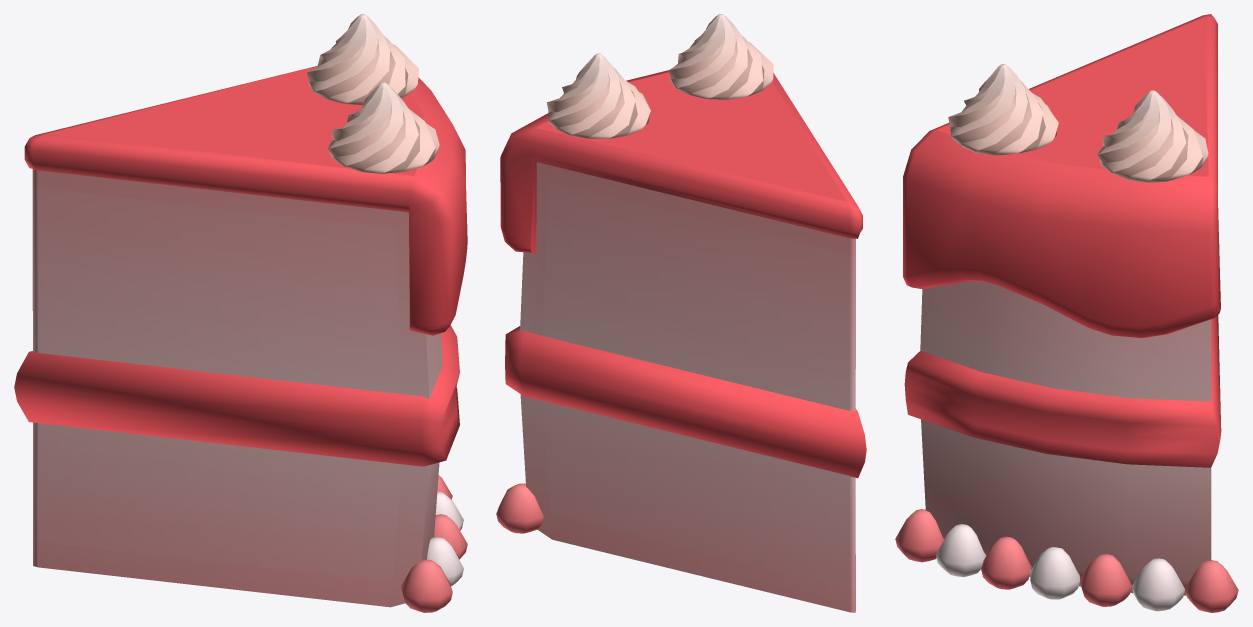
File: Cake_Strawberry_Slice_V3_01.fbx
3 views of the same model, side by side, from view 1: azimuth 30°, elevation 25°; view 2: azimuth 150°, elevation 25°; view 3: azimuth 270°, elevation 25° (orthographic). The views are drawn at different scales.
Visible parts, largest first — view 1: Cake_Strawberry_Slice_V3_01; view 2: Cake_Strawberry_Slice_V3_01; view 3: Cake_Strawberry_Slice_V3_01.
Boxes of the visible parts, <box> form: Cake_Strawberry_Slice_V3_01: <box>14,14,467,612</box>; Cake_Strawberry_Slice_V3_01: <box>496,14,866,612</box>; Cake_Strawberry_Slice_V3_01: <box>895,14,1238,612</box>.
Size of the model in its own units: 33.88 by 41.11 by 25.84.
